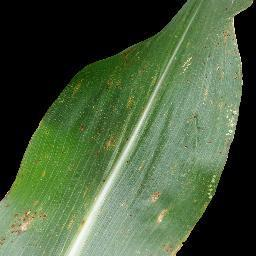Corn_Common_Rust: (210, 5, 256, 135), (164, 224, 226, 256), (0, 195, 51, 228), (77, 124, 129, 156), (192, 169, 231, 206), (62, 205, 105, 235), (139, 189, 175, 221), (0, 225, 36, 256), (115, 89, 152, 116), (67, 67, 85, 111), (110, 41, 139, 67), (180, 118, 209, 141), (180, 58, 205, 84), (119, 157, 145, 174), (95, 79, 124, 93), (160, 161, 185, 175), (99, 177, 115, 190), (41, 169, 52, 185), (12, 224, 16, 236)
